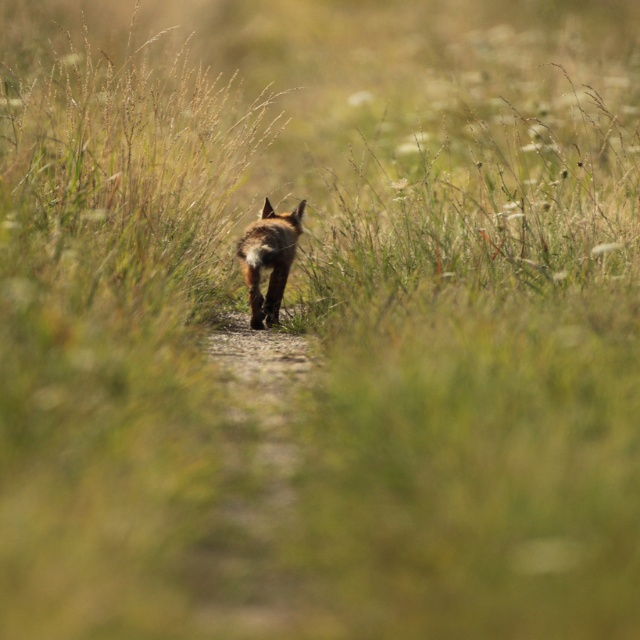Fox: (236, 196, 309, 332)
